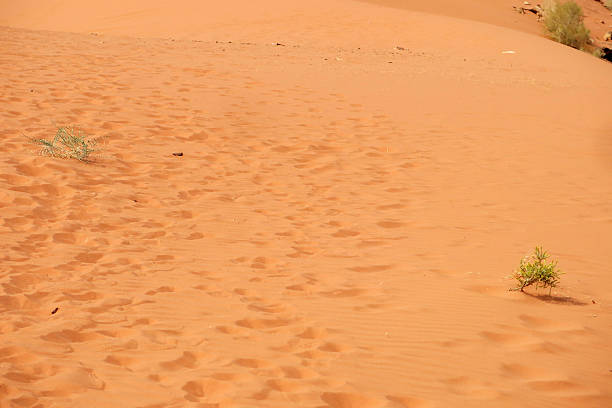animal_foot_print: (8, 35, 457, 396)
